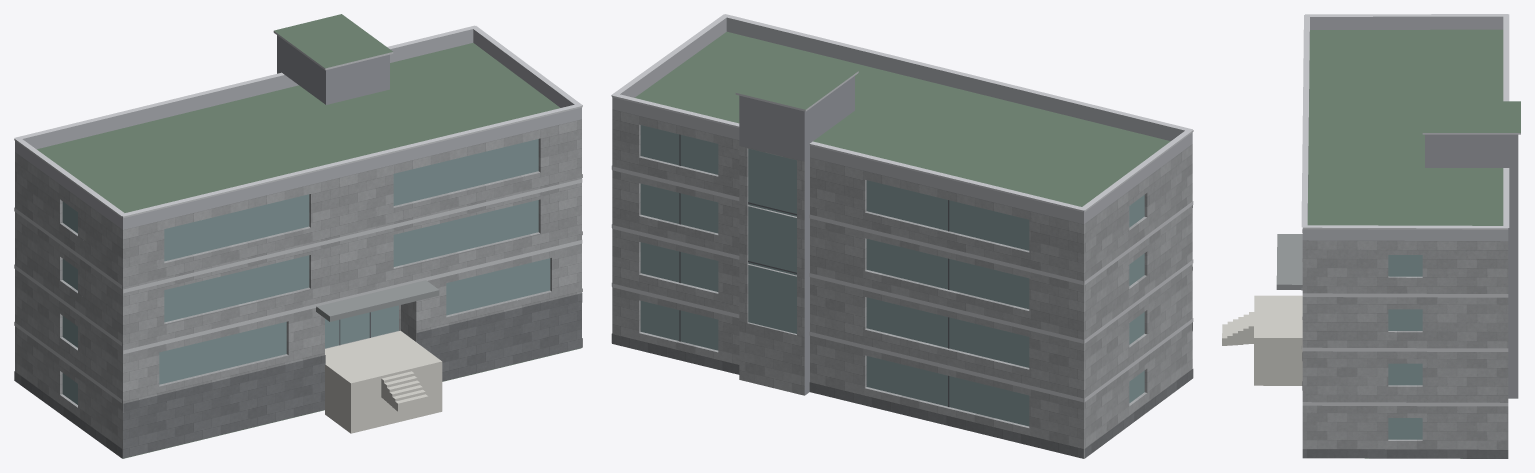
3 views of the same model, side by side, from view 1: azimuth 30°, elevation 25°; view 2: azimuth 150°, elevation 25°; view 3: azimuth 270°, elevation 25° (orthographic). The views are drawn at different scales.
Visible parts, largest first — view 1: b41__wall, b41__roof, b41__glass, b41__base, b41__parapet, b41__trim, b41__entranceStair, b41__wall2, b41__canopy; view 2: b41__wall, b41__glass, b41__roof, b41__parapet, b41__trim, b41__wall2, b41__base, b41__frame; view 3: b41__wall, b41__roof, b41__trim, b41__wall2, b41__entranceStair, b41__parapet, b41__glass, b41__base, b41__canopy.
Part boxes in pixels (<box>): b41__wall: <box>15,119,581,458</box>; b41__roof: <box>37,14,581,458</box>; b41__glass: <box>62,139,550,404</box>; b41__base: <box>14,293,582,458</box>; b41__parapet: <box>15,29,581,229</box>; b41__trim: <box>14,25,582,402</box>; b41__entranceStair: <box>325,331,442,433</box>; b41__wall2: <box>277,35,389,104</box>; b41__canopy: <box>316,280,439,321</box>; b41__wall: <box>612,109,1192,458</box>; b41__glass: <box>640,125,1144,426</box>; b41__roof: <box>635,31,1170,458</box>; b41__parapet: <box>612,17,1192,224</box>; b41__trim: <box>611,14,1193,402</box>; b41__wall2: <box>739,76,854,395</box>; b41__base: <box>611,322,1193,458</box>; b41__frame: <box>679,134,949,406</box>; b41__wall: <box>1302,240,1508,449</box>; b41__roof: <box>1307,29,1520,458</box>; b41__trim: <box>1301,14,1520,406</box>; b41__wall2: <box>1425,134,1518,398</box>; b41__entranceStair: <box>1222,295,1302,385</box>; b41__parapet: <box>1302,16,1508,241</box>; b41__glass: <box>1388,255,1422,439</box>; b41__base: <box>1302,352,1508,458</box>; b41__canopy: <box>1276,234,1302,289</box>.
Bounding box in the file's own units: 30.45 × 17.97 × 17.93.
11 materials, 2 textured.
